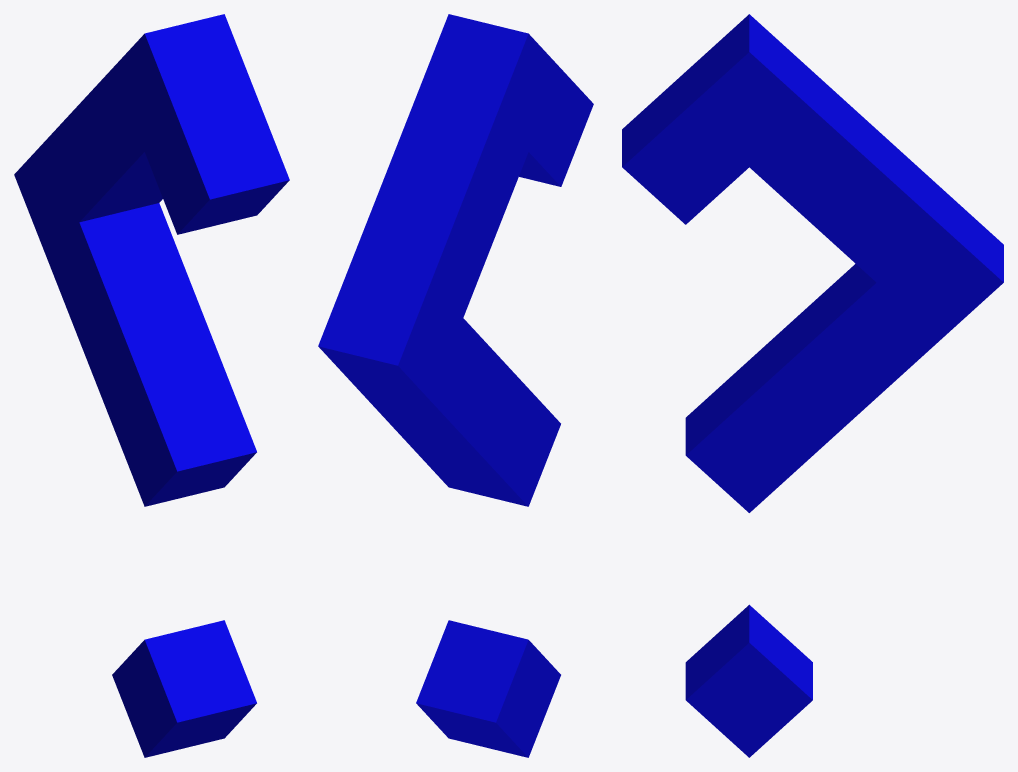
Rendered from EventTile.fbx.
3 views of the same model, side by side, from view 1: azimuth 30°, elevation 25°; view 2: azimuth 150°, elevation 25°; view 3: azimuth 270°, elevation 25° (orthographic). The views are drawn at different scales.
Visible parts, largest first — view 1: Cube, Cube.001; view 2: Cube, Cube.001; view 3: Cube, Cube.001.
Part boxes in pixels (box(x1,y1,x2,y2)): Cube: box(14, 14, 289, 506); Cube.001: box(112, 620, 256, 757); Cube: box(318, 14, 593, 506); Cube.001: box(416, 620, 560, 757); Cube: box(622, 14, 1003, 512); Cube.001: box(685, 604, 812, 757).
Size of the model in its own units: 200 by 1731 by 849.
